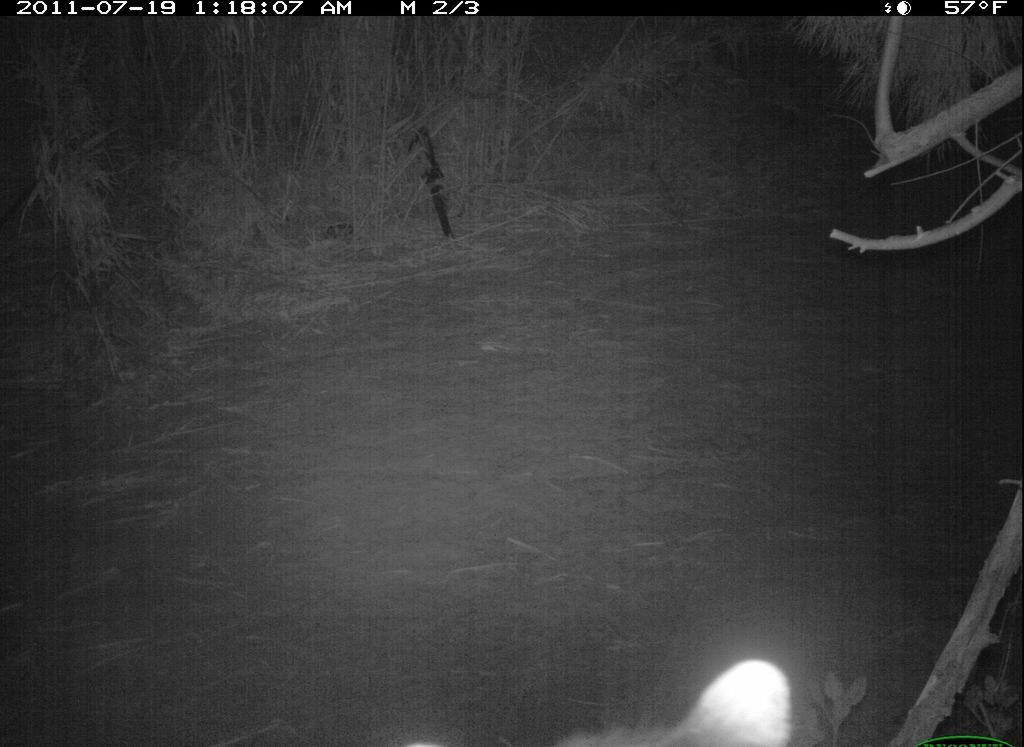raccoon: (397, 653, 798, 745)
